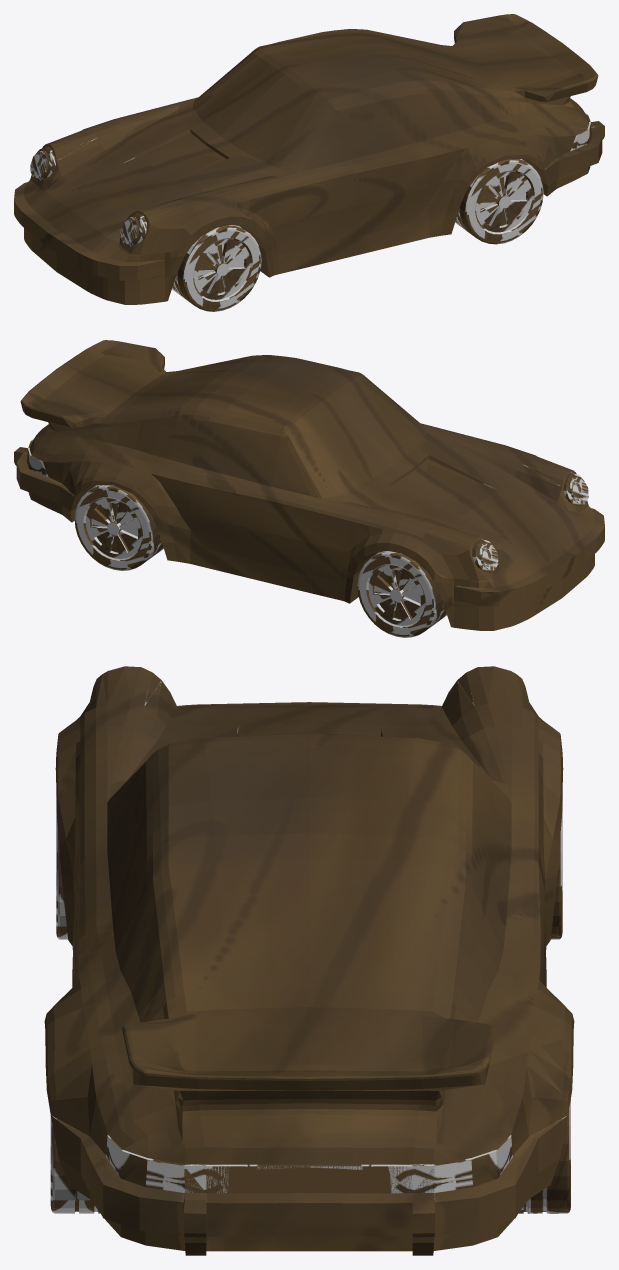
The model's file is 911-Turbo.fbx.
3 views of the same model, one above another, from view 1: azimuth 30°, elevation 25°; view 2: azimuth 150°, elevation 25°; view 3: azimuth 270°, elevation 25° (orthographic). The views are drawn at different scales.
Visible parts, largest first — view 1: Body, FrontLeft Wheel, RearLeft Wheel, LeftHeadlight, RightHeadlight; view 2: Body, FrontRight Wheel, RearRight Wheel, RightHeadlight, LeftHeadlight; view 3: Body, TailLight, RearRight Wheel, RearLeft Wheel, FrontLeft Wheel, FrontRight Wheel.
Boxes of the visible parts, left/top/right/bottom form: Body: left=14, top=14, right=604, bottom=304; FrontLeft Wheel: left=172, top=225, right=261, bottom=311; RearLeft Wheel: left=455, top=158, right=543, bottom=244; LeftHeadlight: left=120, top=213, right=146, bottom=246; RightHeadlight: left=30, top=146, right=55, bottom=180; Body: left=14, top=340, right=604, bottom=630; FrontRight Wheel: left=357, top=551, right=446, bottom=637; RearRight Wheel: left=74, top=485, right=163, bottom=570; RightHeadlight: left=472, top=539, right=498, bottom=572; LeftHeadlight: left=563, top=472, right=588, bottom=506; Body: left=44, top=666, right=574, bottom=1255; TailLight: left=106, top=1135, right=512, bottom=1193; RearRight Wheel: left=518, top=1099, right=570, bottom=1213; RearLeft Wheel: left=50, top=1116, right=100, bottom=1213; FrontLeft Wheel: left=56, top=797, right=67, bottom=939; FrontRight Wheel: left=551, top=797, right=562, bottom=939.
Bounding box in the file's own units: 143 × 329 × 97.84.
4 materials, 4 textured.
